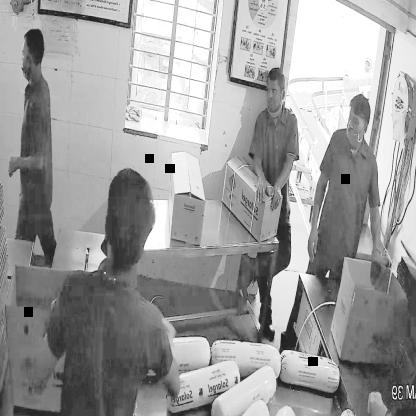no_goggles: (342, 111, 373, 136)
